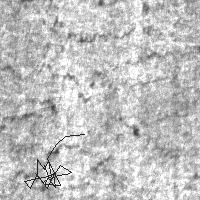crazing: (1, 38, 93, 127), (112, 47, 187, 142), (9, 143, 115, 198), (42, 1, 162, 42), (24, 134, 84, 188)
